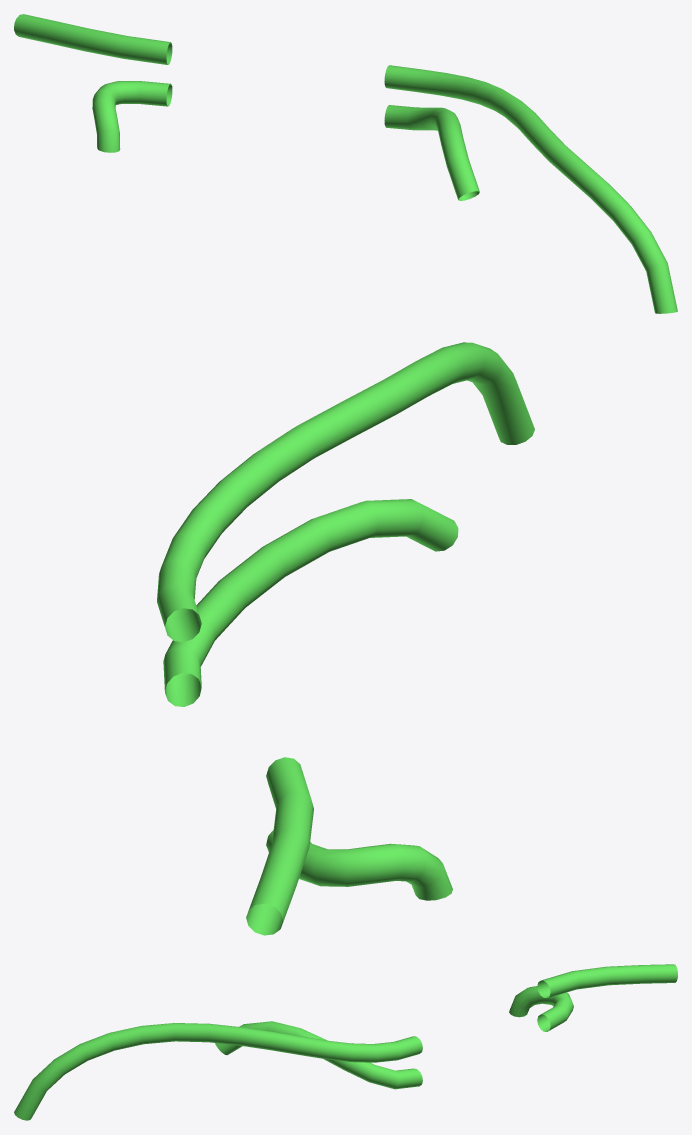
File: braided_cable.fbx
3 renders of one model, top to bottom at view 1: azimuth 30°, elevation 25°; view 2: azimuth 150°, elevation 25°; view 3: azimuth 270°, elevation 25°, orthographic. The views are drawn at different scales.
Parts seen in each view (by area): view 1: BezierCurve.012; view 2: BezierCurve.012; view 3: BezierCurve.012.
Boxes of the visible parts, <box> form: BezierCurve.012: <box>14,14,677,313</box>; BezierCurve.012: <box>157,342,534,935</box>; BezierCurve.012: <box>14,964,677,1120</box>.
Size of the model in its own units: 73.73 by 27.77 by 188.
